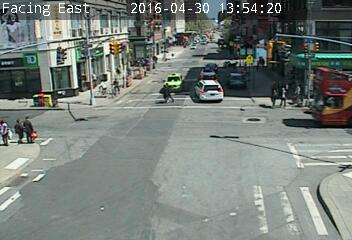neg: (91, 76, 111, 102), (36, 28, 54, 52), (319, 178, 337, 202), (107, 76, 123, 98), (267, 144, 283, 166), (126, 126, 142, 147), (223, 83, 239, 103), (130, 16, 145, 36), (201, 184, 216, 204), (184, 149, 198, 168), (209, 49, 223, 68), (243, 178, 257, 196), (86, 16, 99, 34), (182, 31, 195, 48), (47, 159, 60, 176), (61, 39, 73, 56), (41, 90, 53, 107), (19, 84, 31, 100), (226, 156, 238, 171), (94, 144, 105, 159), (66, 102, 77, 117), (217, 21, 228, 35), (60, 66, 70, 80), (297, 178, 307, 191), (30, 60, 39, 72)
pos: (16, 112, 39, 142), (6, 116, 27, 145), (159, 79, 177, 103), (263, 83, 281, 107), (275, 86, 292, 108), (291, 83, 307, 103)
